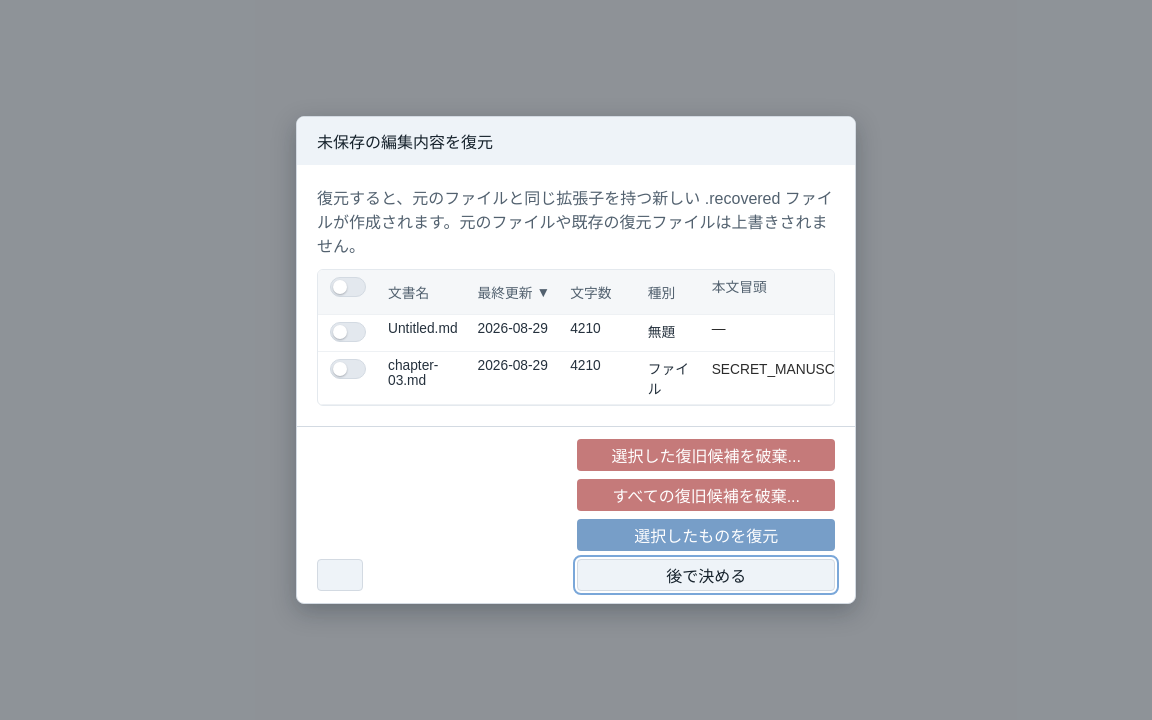
Test: RecoveryCandidateDialog behavior › disables Restore with zero selected and enables it once a row is selected
expect the button "選択したものを復元" is disabled: met, box [577,519,835,551]
Click the checkbox named "Untitled.md".
click(348, 332)  # box [328,321,368,343]
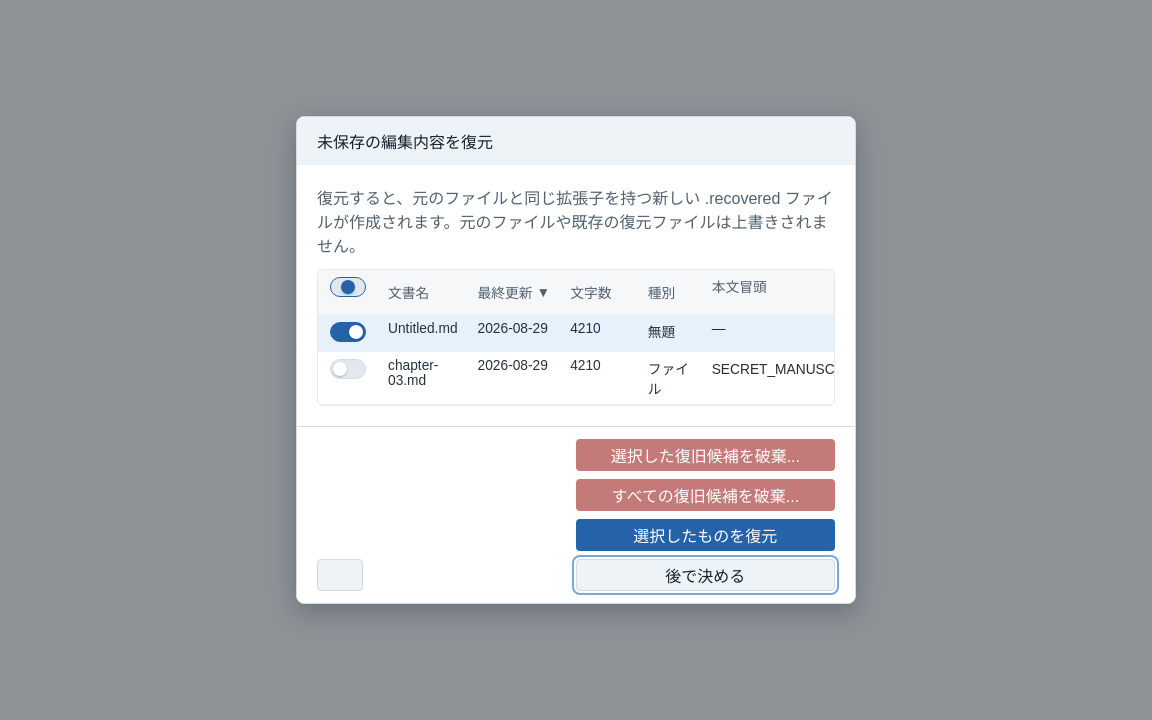
expect the button "選択したものを復元" is enabled: met, box [576,519,835,551]
Click the checkbox named "Untitled.md".
click(348, 332)  # box [328,321,368,343]
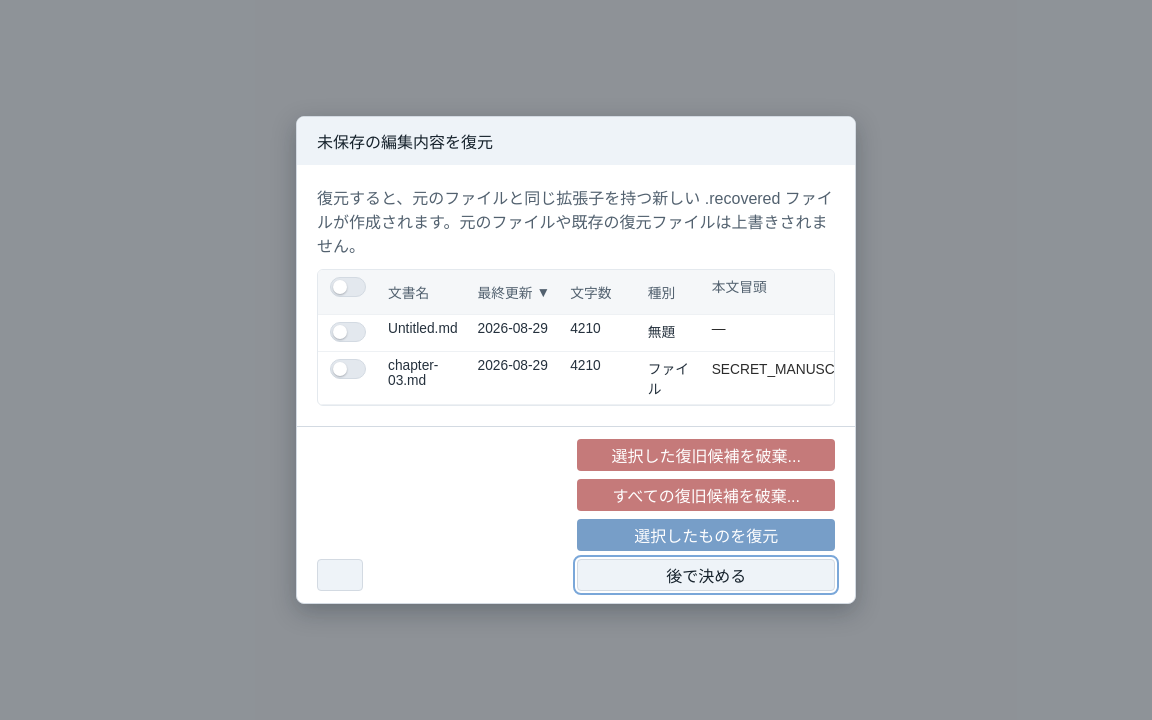
expect the button "選択したものを復元" is disabled: met, box [577,519,835,551]
